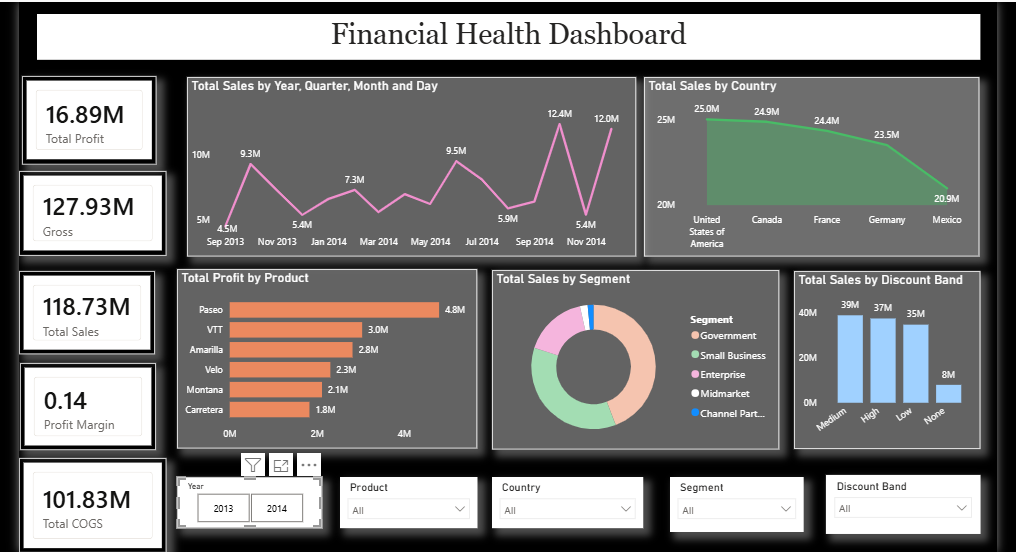

What the dashboard file says about the page in this screenshot:
{"tool":"powerbi","page":{"name":"Page 1","canvas":[1280,720],"ordinal":0},"visuals":[{"type":"cardVisual","fields":{"Data":["financials.Total Profit"]},"box":[3.4,97.4,176.4,115.9],"z":0},{"type":"textbox","box":[23.5,15.1,1234.6,60.5],"z":1000},{"type":"cardVisual","fields":{"Data":["financials.Gross"]},"box":[0,221.7,193.2,110.9],"z":2000},{"type":"cardVisual","fields":{"Data":["financials.Profit Margin"]},"box":[1.7,472,178.1,114.2],"z":3000},{"type":"cardVisual","fields":{"Data":["financials.Total COGS"]},"box":[0,596.3,193.2,124.3],"z":4000},{"type":"cardVisual","fields":{"Data":["financials.Total Sales"]},"box":[0,352.8,178.1,109.2],"z":5000},{"type":"lineChart","fields":{"Y":["financials.Total Sales"],"Category":["financials.Date.Variation.Date Hierarchy.Year","financials.Date.Variation.Date Hierarchy.Quarter","financials.Date.Variation.Date Hierarchy.Month","financials.Date.Variation.Date Hierarchy.Day"]},"box":[220.3,97.9,587.5,234.7],"z":6000},{"type":"clusteredBarChart","fields":{"Y":["financials.Total Profit"],"Category":["financials.Product"]},"box":[206.6,349.4,393.1,235.2],"z":7000},{"type":"areaChart","fields":{"Category":["financials.Country"],"Y":["financials.Total Sales"]},"box":[817.9,97.9,439.2,234.7],"z":7001},{"type":"donutChart","fields":{"Category":["financials.Segment"],"Y":["financials.Total Sales"]},"box":[619.2,351.4,375.8,234.7],"z":7002},{"type":"clusteredColumnChart","fields":{"Category":["financials.Discount Band"],"Y":["financials.Total Sales"]},"box":[1014.6,352.8,243.6,233.5],"z":7003},{"type":"slicer","fields":{"Values":["financials.Year"]},"box":[206.6,621.5,189.8,67.2],"z":7004},{"type":"slicer","fields":{"Values":["financials.Country"]},"box":[619.8,621.5,198.2,67.2],"z":7006},{"type":"slicer","fields":{"Values":["financials.Product"]},"box":[419.9,621.5,179.7,67.2],"z":7007},{"type":"slicer","fields":{"Values":["financials.Segment"]},"box":[851.7,621.5,174.7,72.2],"z":7008},{"type":"slicer","fields":{"Values":["financials.Discount Band"]},"box":[1056.6,619.8,201.6,77.3],"z":7009}]}

Visuals, with their boxes in screenshot pixels (x1, y1, x2, y2):
cardVisual - financials.Total Profit: (x1=24, y1=76, x2=157, y2=164)
textbox: (x1=39, y1=14, x2=974, y2=60)
cardVisual - financials.Gross: (x1=21, y1=171, x2=168, y2=255)
cardVisual - financials.Profit Margin: (x1=22, y1=360, x2=157, y2=447)
cardVisual - financials.Total COGS: (x1=21, y1=454, x2=168, y2=548)
cardVisual - financials.Total Sales: (x1=21, y1=270, x2=156, y2=353)
lineChart - financials.Total Sales x financials.Date.Variation.Date Hierarchy.Year: (x1=188, y1=77, x2=633, y2=255)
clusteredBarChart - financials.Total Profit x financials.Product: (x1=178, y1=267, x2=475, y2=445)
areaChart - financials.Country x financials.Total Sales: (x1=641, y1=77, x2=973, y2=255)
donutChart - financials.Segment x financials.Total Sales: (x1=490, y1=269, x2=775, y2=447)
clusteredColumnChart - financials.Discount Band x financials.Total Sales: (x1=790, y1=270, x2=974, y2=447)
slicer - financials.Year: (x1=178, y1=473, x2=321, y2=524)
slicer - financials.Country: (x1=491, y1=473, x2=641, y2=524)
slicer - financials.Product: (x1=339, y1=473, x2=475, y2=524)
slicer - financials.Segment: (x1=666, y1=473, x2=799, y2=528)
slicer - financials.Discount Band: (x1=821, y1=472, x2=974, y2=531)
